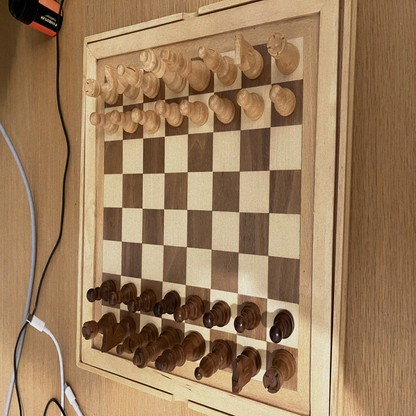bishop_black: (195, 340, 230, 379), (117, 325, 158, 354)
bishop_white: (198, 47, 237, 84), (118, 63, 160, 97)
king_black: (155, 333, 205, 370)
king_white: (162, 50, 209, 90)
knight_black: (231, 349, 260, 395), (102, 317, 135, 353)
knight_white: (234, 36, 264, 77), (104, 63, 138, 98)
pawn_black: (175, 296, 204, 323), (270, 310, 294, 342), (235, 303, 259, 332), (128, 292, 159, 314), (109, 285, 137, 308), (155, 292, 180, 317), (204, 303, 230, 327), (87, 281, 113, 301)
pawn_white: (237, 89, 265, 121), (270, 84, 296, 117), (180, 98, 209, 125), (209, 94, 235, 124), (156, 100, 183, 128), (132, 108, 160, 132), (110, 110, 137, 133), (90, 112, 117, 135)
queen_black: (134, 327, 177, 368)
queen_white: (140, 51, 185, 90)
rock_black: (263, 351, 296, 392), (82, 315, 115, 340)
rock_white: (268, 32, 300, 74), (85, 78, 118, 102)
